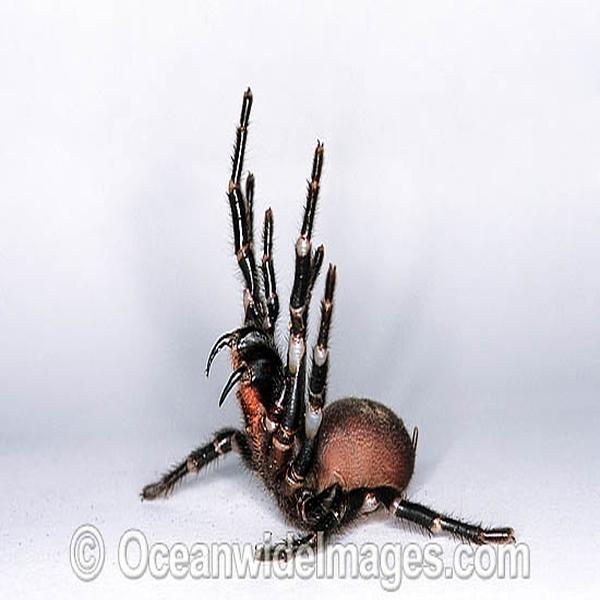Funnel Web Spider: (151, 90, 516, 553)
